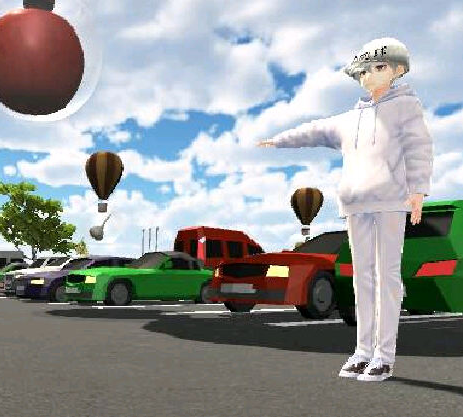singleP_left: (251, 36, 434, 389)
